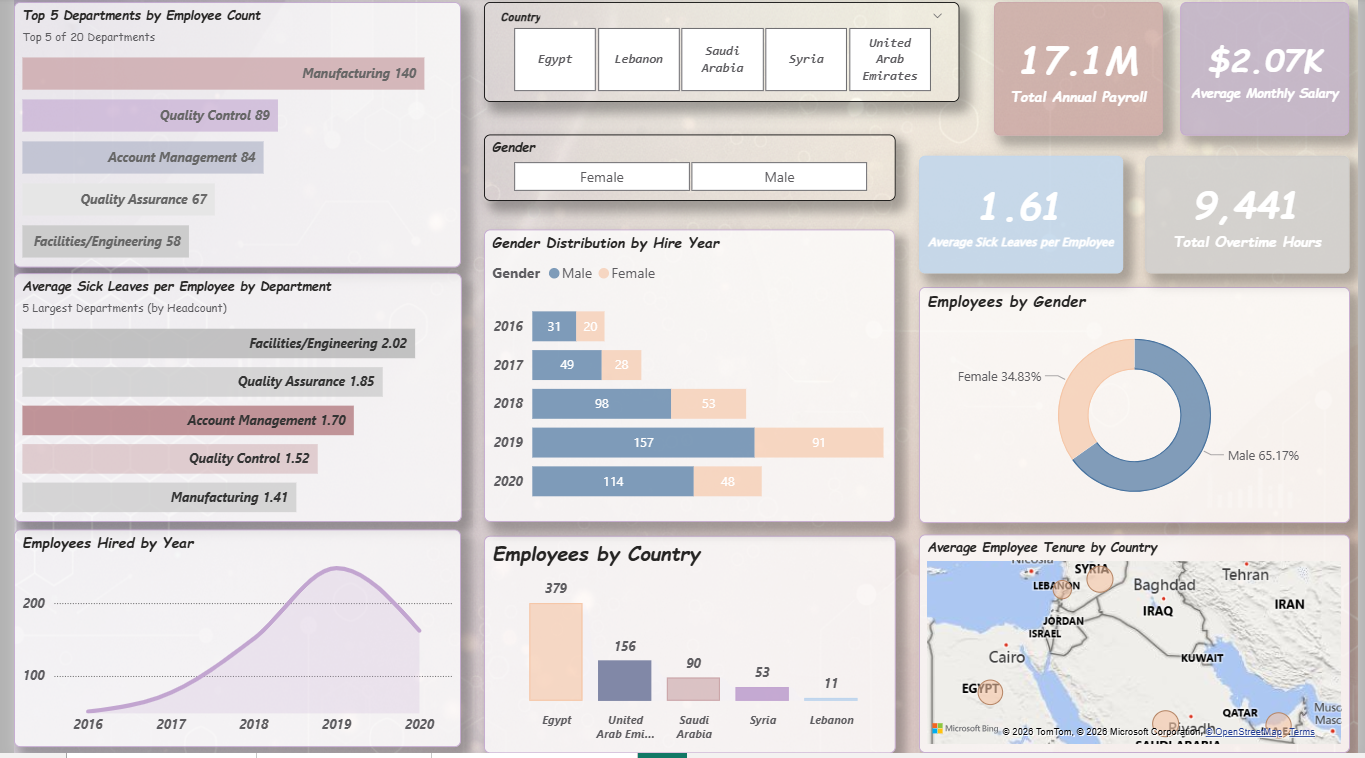

The page's visual inventory and layout, read from the dashboard file:
{"tool":"powerbi","page":{"name":"Workforce Overview","canvas":[1280,720],"ordinal":0},"visuals":[{"type":"clusteredBarChart","title":"Top 5 Departments by Employee Count","fields":{"Category":["EmpTable.Department"],"Y":["Employees.Total Employees"]},"box":[0,4.3,425.7,252.9],"z":0},{"type":"donutChart","title":"Employees by Gender","fields":{"Category":["EmpTable.Gender"],"Y":["Employees.Total Employees"]},"box":[861.6,276,410.4,224.4],"z":1000},{"type":"columnChart","title":"Employees by Country","fields":{"Category":["EmpTable.Country"],"Y":["Employees.Total Employees"]},"box":[447.6,513.1,391.7,207.1],"z":2000},{"type":"slicer","fields":{"Values":["EmpTable.Country"]},"box":[447.6,4.8,452.4,94.8],"z":3000},{"type":"clusteredBarChart","title":"Average Sick Leaves per Employee by Department","fields":{"Category":["EmpTable.Department"],"Y":["Employees.Average Sick Leaves per Employee"]},"box":[0,263.1,426.2,236.9],"z":4000},{"type":"card","fields":{"Values":["Employees.Total Annual Payroll"]},"box":[933.6,4.8,160.8,127.2],"z":5000},{"type":"card","fields":{"Values":["Employees.Total Overtime Hours"]},"box":[1077.6,151.2,194.4,111.6],"z":6000},{"type":"card","title":"Average Sick Leaves per Employee","fields":{"Values":["Employees.Average Sick Leaves"]},"box":[861.6,151.2,194.4,111.6],"z":7000},{"type":"barChart","title":"Gender Distribution by Hire Year","fields":{"Category":["EmpTable.Start Date.Variation.Date Hierarchy.Year"],"Series":["EmpTable.Gender"],"Y":["Employees.Total Employees"]},"box":[447.6,222,391.2,278.4],"z":8000},{"type":"slicer","title":"Gender","fields":{"Values":["EmpTable.Gender"]},"box":[447.6,131,391.7,63.1],"z":9000},{"type":"lineChart","title":"Employees Hired by Year","fields":{"Category":["EmpTable.Start Date.Variation.Date Hierarchy.Year"],"Y":["Employees.Total Employees"]},"box":[0,507.1,425.7,207.1],"z":10000},{"type":"map","title":"Average Employee Tenure by Country","fields":{"Category":["EmpTable.Country"],"Size":["Avg(EmpTable.Years)"]},"box":[861.6,512.4,410.4,207.6],"z":11000},{"type":"card","fields":{"Values":["Employees.Average Monthly Salary"]},"box":[1111.2,4.8,160.8,127.2],"z":12000}]}

Visuals, with their boxes in screenshot pixels (x1, y1, x2, y2), scaled from the page's 1280x720 canvas onto the 1365x758 screenshot:
"Top 5 Departments by Employee Count" clusteredBarChart: Rect(0, 5, 454, 271)
"Employees by Gender" donutChart: Rect(919, 291, 1356, 527)
"Employees by Country" columnChart: Rect(477, 540, 895, 757)
slicer - EmpTable.Country: Rect(477, 5, 960, 105)
"Average Sick Leaves per Employee by Department" clusteredBarChart: Rect(0, 277, 455, 526)
card - Employees.Total Annual Payroll: Rect(996, 5, 1167, 139)
card - Employees.Total Overtime Hours: Rect(1149, 159, 1356, 277)
"Average Sick Leaves per Employee" card: Rect(919, 159, 1126, 277)
"Gender Distribution by Hire Year" barChart: Rect(477, 234, 895, 527)
"Gender" slicer: Rect(477, 138, 895, 204)
"Employees Hired by Year" lineChart: Rect(0, 534, 454, 752)
"Average Employee Tenure by Country" map: Rect(919, 539, 1356, 757)
card - Employees.Average Monthly Salary: Rect(1185, 5, 1356, 139)
